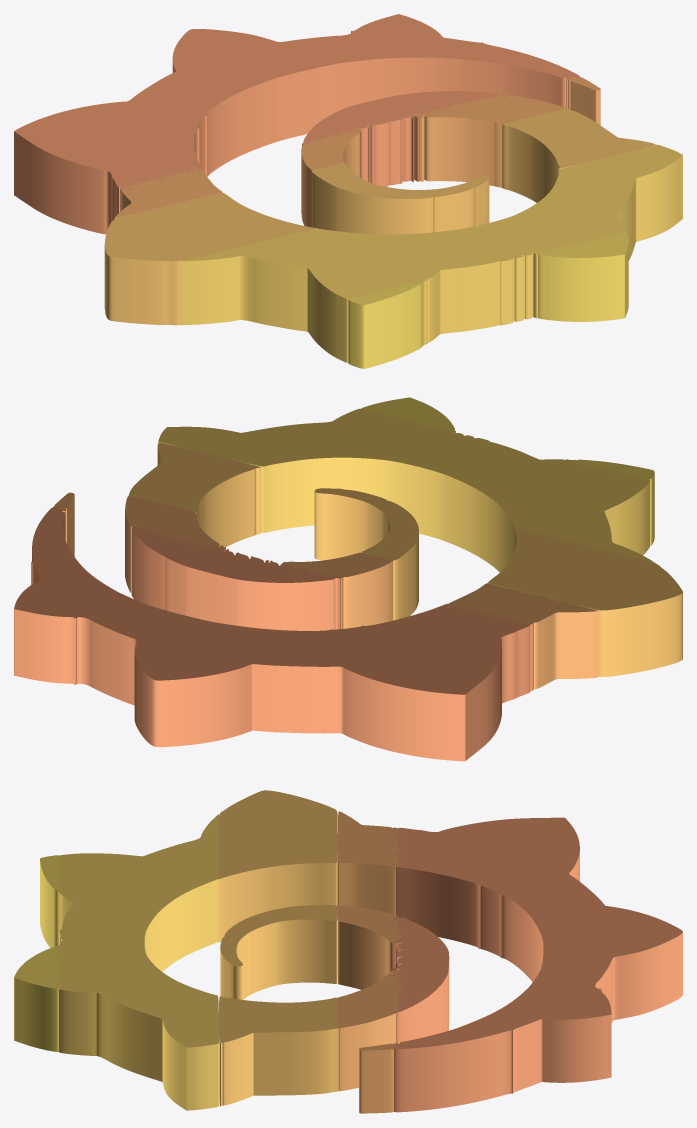
File: Grafana-transformed.glb
The picture shows the model from 3 angles, top to bottom: view 1: azimuth 30°, elevation 25°; view 2: azimuth 150°, elevation 25°; view 3: azimuth 270°, elevation 25°; orthographic projection. The views are drawn at different scales.
Visible parts, largest first — view 1: Node1, Node3, Node4, Node6, Node8, Node2, Node5, Node14, Node15, Node7, Node9, Node10; view 2: Node1, Node3, Node4, Node2, Node5, Node6, Node7, Node9, Node8, Node14, Node15, Node10; view 3: Node1, Node3, Node4, Node5, Node6, Node2, Node7, Node8, Node9, Node14, Node10, Node15.
Part boxes in pixels (<box>): Node1: <box>14,14,580,234</box>; Node3: <box>181,145,682,362</box>; Node4: <box>104,192,317,325</box>; Node6: <box>311,163,489,234</box>; Node8: <box>413,94,564,187</box>; Node2: <box>302,91,504,186</box>; Node5: <box>502,108,656,202</box>; Node14: <box>536,231,628,321</box>; Node15: <box>348,281,421,368</box>; Node7: <box>114,167,222,218</box>; Node9: <box>301,129,360,227</box>; Node10: <box>568,77,600,125</box>; Node1: <box>14,506,533,761</box>; Node3: <box>158,408,655,572</box>; Node4: <box>488,528,682,676</box>; Node2: <box>131,525,340,630</box>; Node5: <box>128,442,260,547</box>; Node6: <box>314,488,418,620</box>; Node7: <box>447,583,597,689</box>; Node9: <box>283,552,393,628</box>; Node8: <box>125,496,223,593</box>; Node14: <box>361,397,454,432</box>; Node15: <box>574,459,654,545</box>; Node10: <box>54,492,74,556</box>; Node1: <box>388,817,682,1112</box>; Node3: <box>56,814,219,1110</box>; Node4: <box>218,790,337,942</box>; Node5: <box>218,996,338,1106</box>; Node6: <box>220,905,337,999</box>; Node2: <box>390,916,449,1043</box>; Node7: <box>337,811,402,915</box>; Node8: <box>336,970,402,1091</box>; Node9: <box>338,906,402,989</box>; Node14: <box>14,946,62,1051</box>; Node10: <box>359,1043,397,1113</box>; Node15: <box>40,855,62,947</box>.
Size of what is drawn, in the model's own units: 88.49 by 10 by 96.16.
